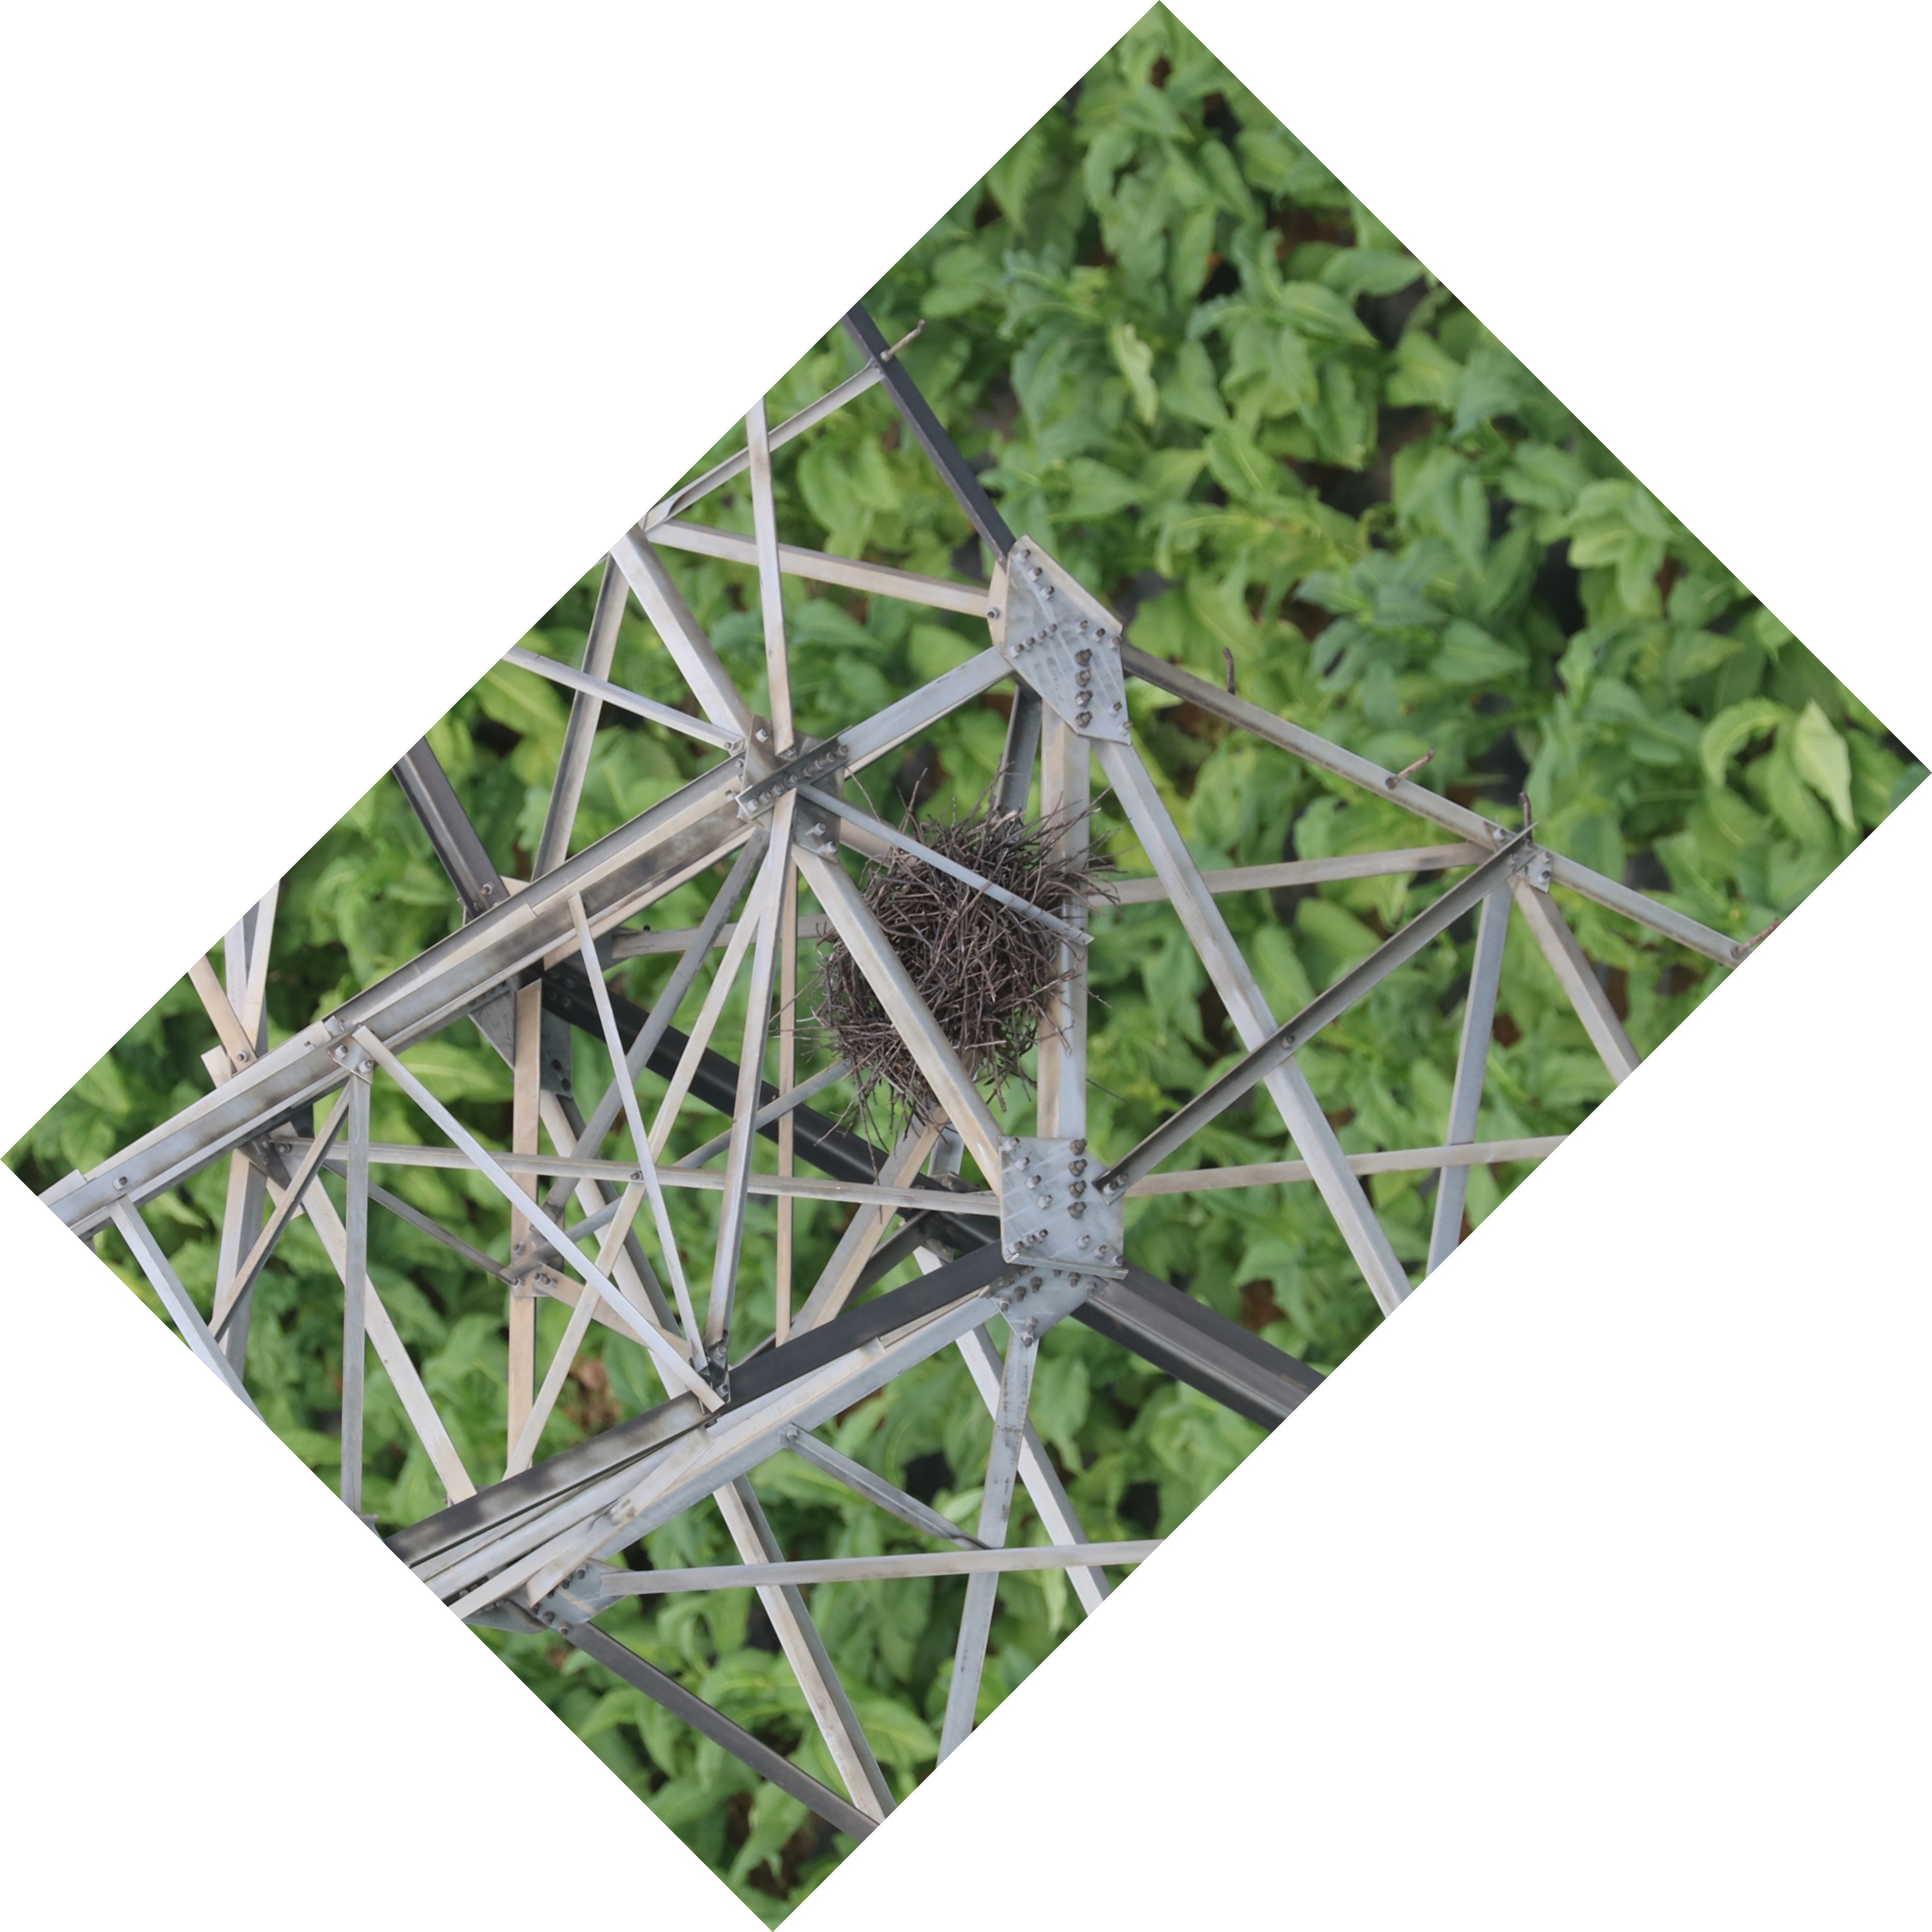niaowo: (791, 780, 1125, 1118)
